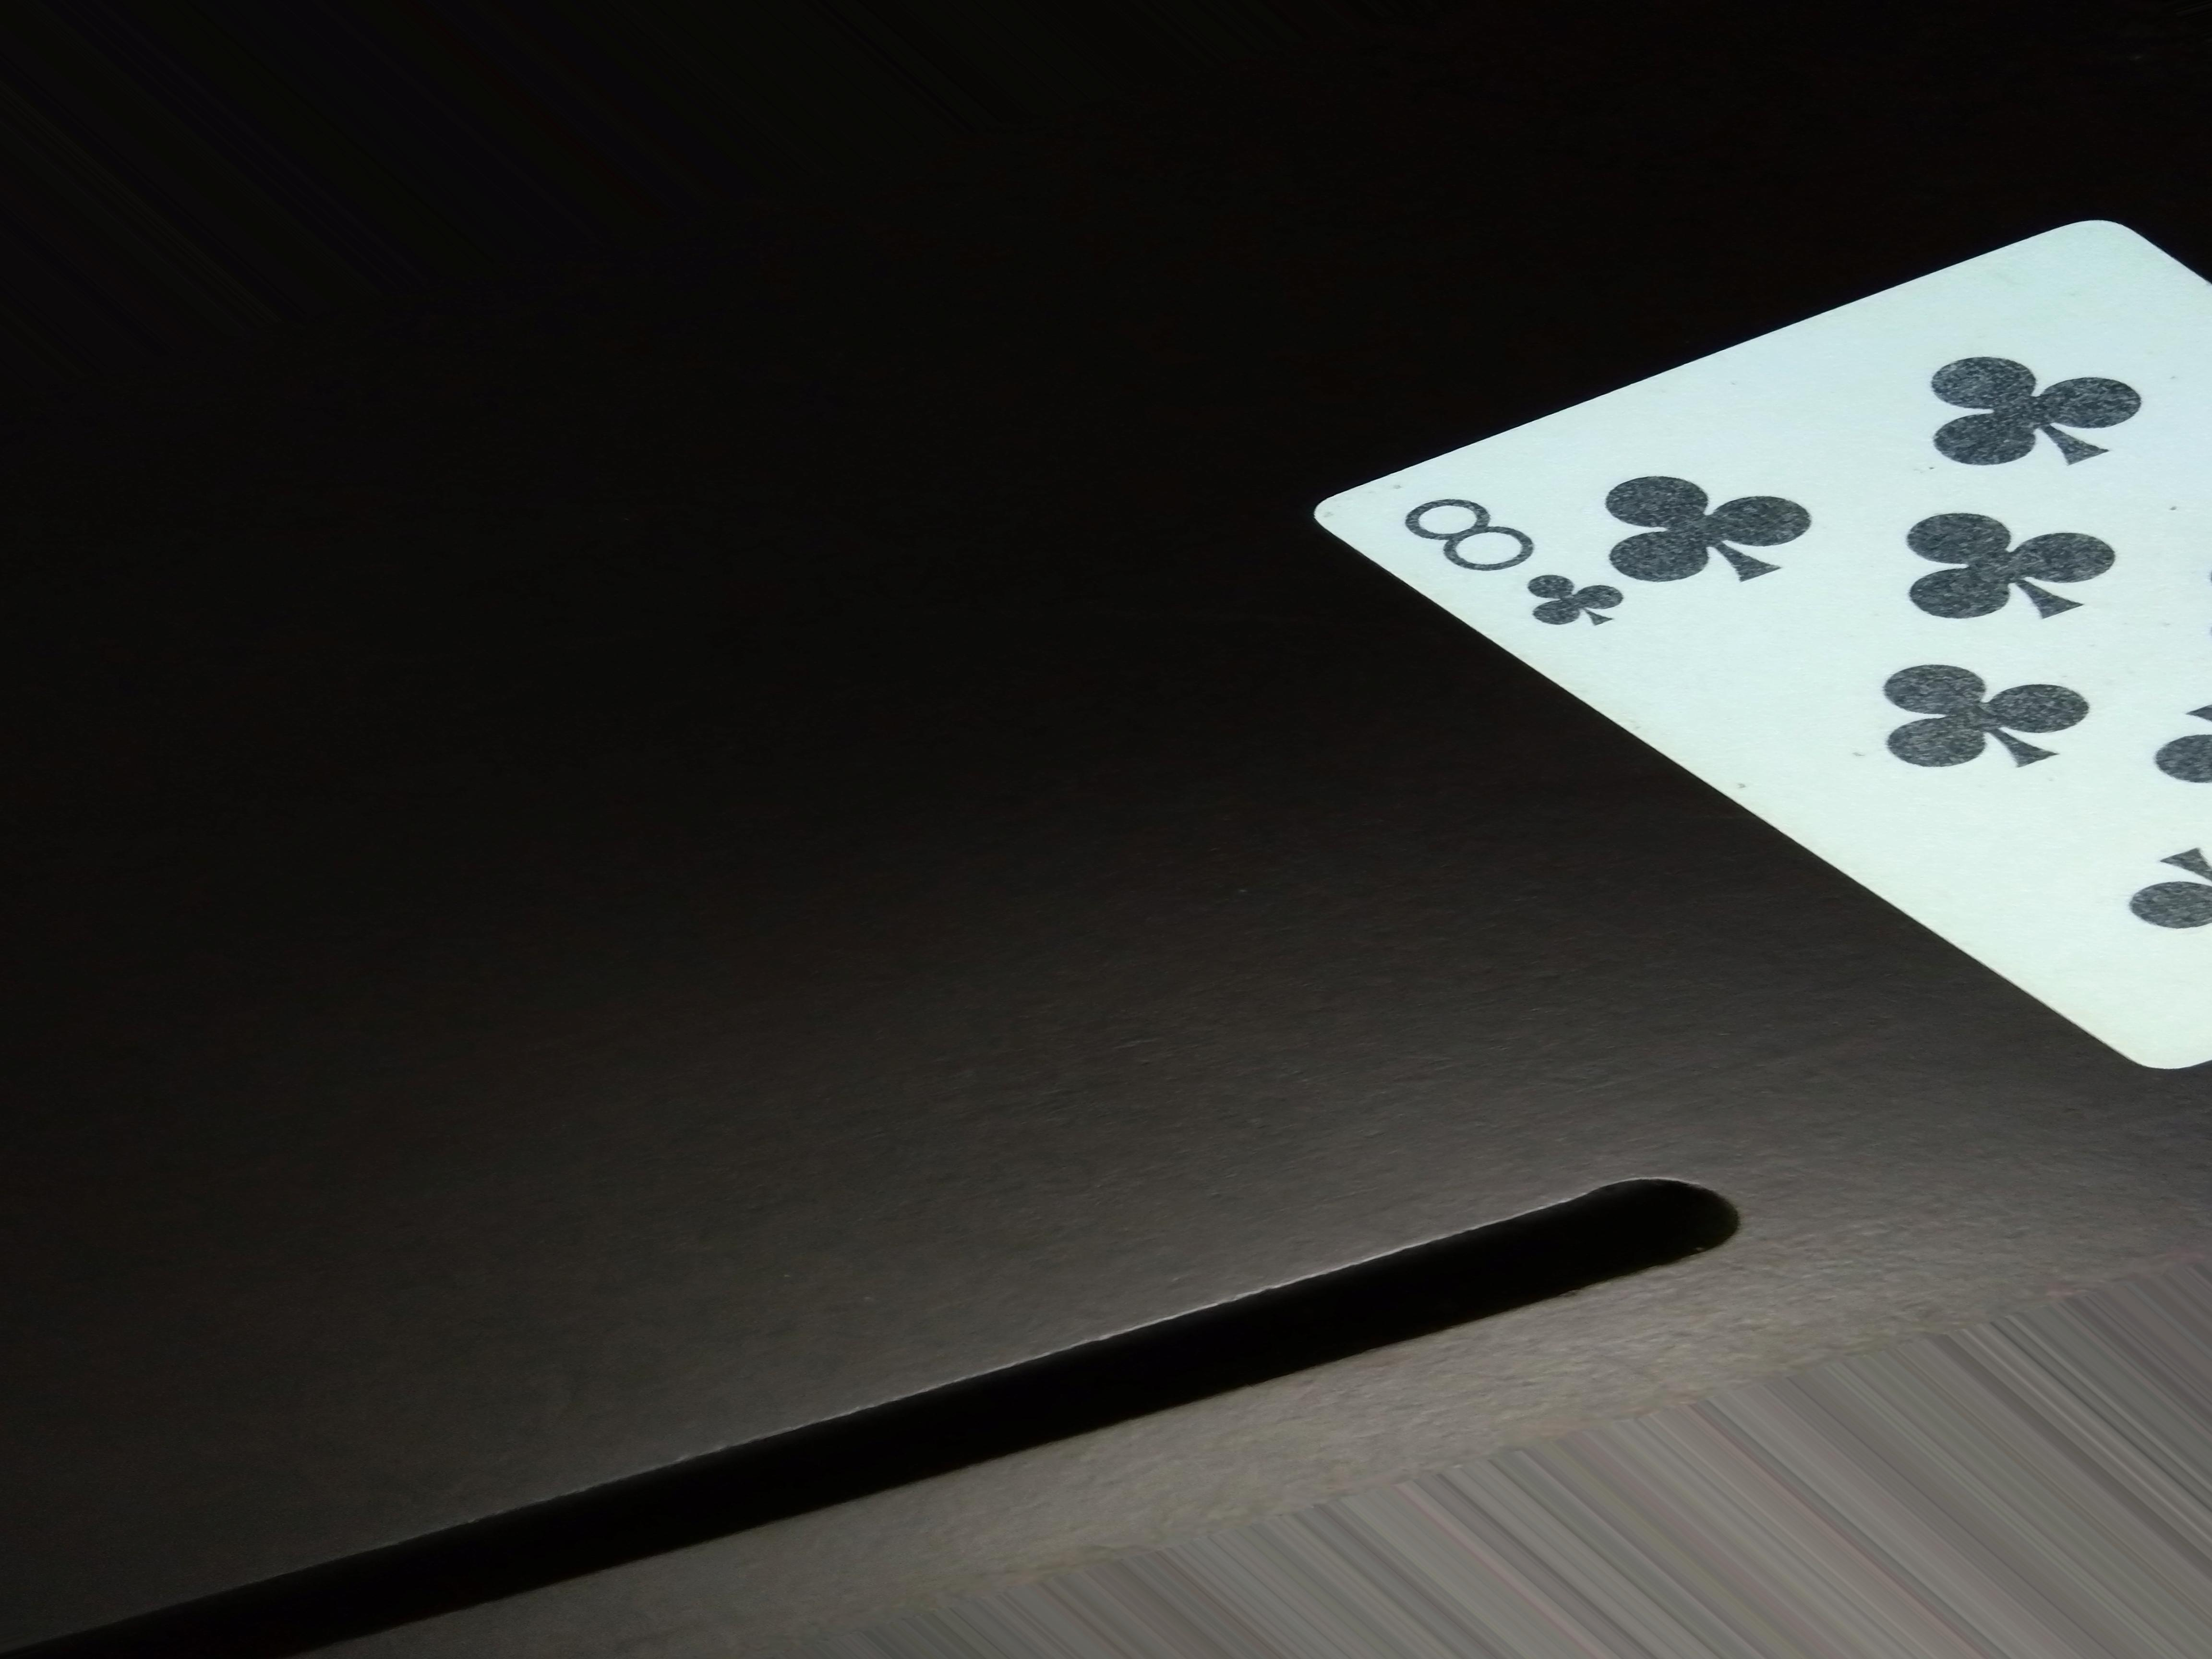8C: (1399, 483, 1642, 660)
